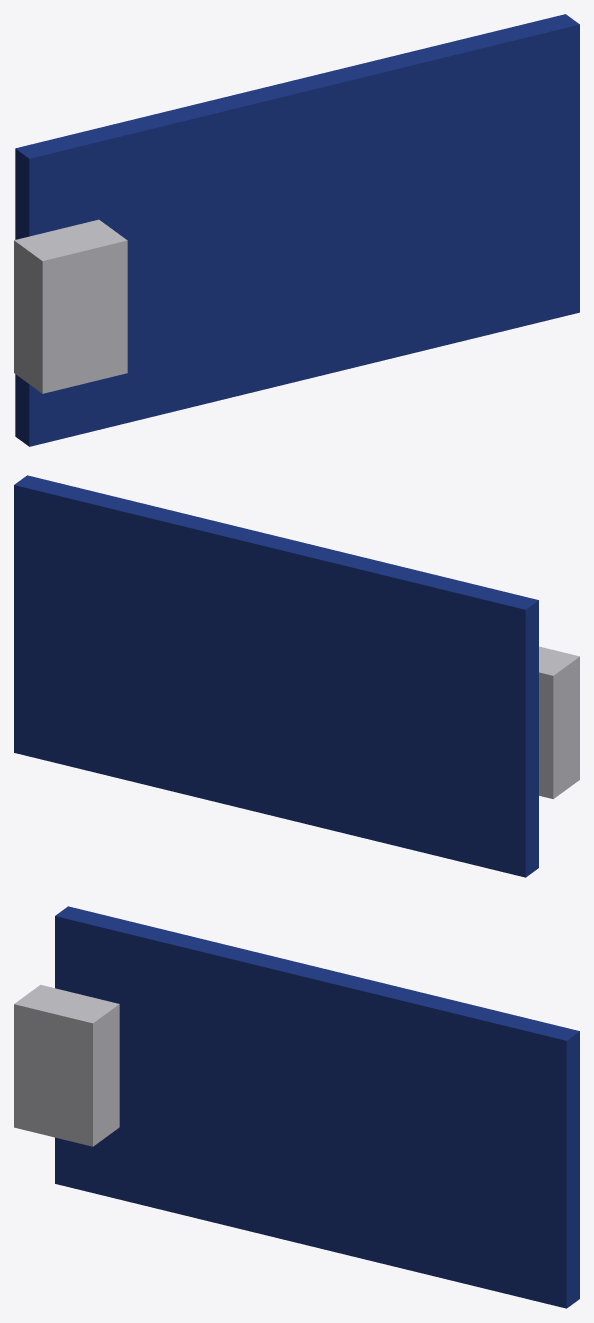
File: mod-teensy40.glb
3 views of the same model, one above another, from view 1: azimuth 30°, elevation 25°; view 2: azimuth 150°, elevation 25°; view 3: azimuth 330°, elevation 25° (orthographic). The views are drawn at different scales.
Parts seen in each view (by area): view 1: PCB-MCU, MET-PORT; view 2: PCB-MCU, MET-PORT; view 3: PCB-MCU, MET-PORT.
Boxes of the visible parts, x1,y1,x2,y2 form: PCB-MCU: (15,14,579,446); MET-PORT: (14,219,127,393); PCB-MCU: (14,475,538,877); MET-PORT: (539,646,579,799); PCB-MCU: (55,906,579,1308); MET-PORT: (14,984,119,1146).
Bounding box in the file's own units: 36.6 × 17.8 × 4.8.
